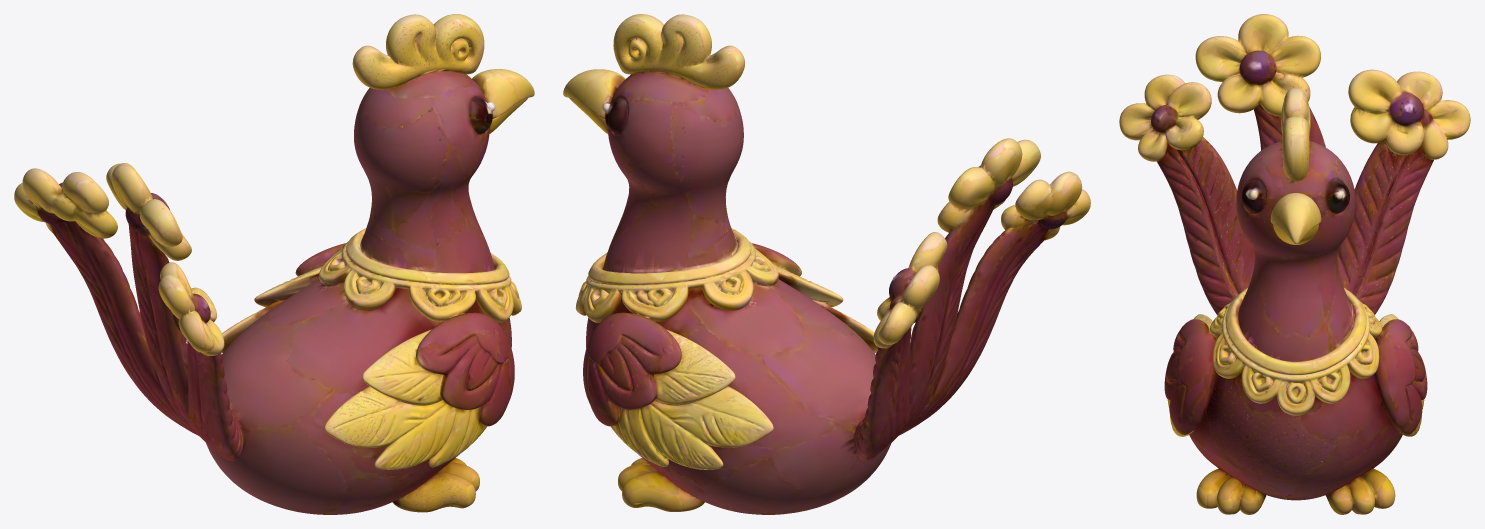
File: phoenix_final.glb
3 renders of one model, left to right at view 1: azimuth 30°, elevation 25°; view 2: azimuth 150°, elevation 25°; view 3: azimuth 270°, elevation 25°, orthographic. The views are drawn at different scales.
Parts seen in each view (by area): view 1: convert; view 2: convert; view 3: convert.
Boxes of the visible parts, box(x1,y1,x2,y2) form: convert: box(14, 14, 534, 514); convert: box(563, 14, 1090, 514); convert: box(1119, 14, 1470, 514).
Size of the model in its own units: 0.9772 by 0.9737 by 0.7366.
Materials: 1 (1 with a texture image).
